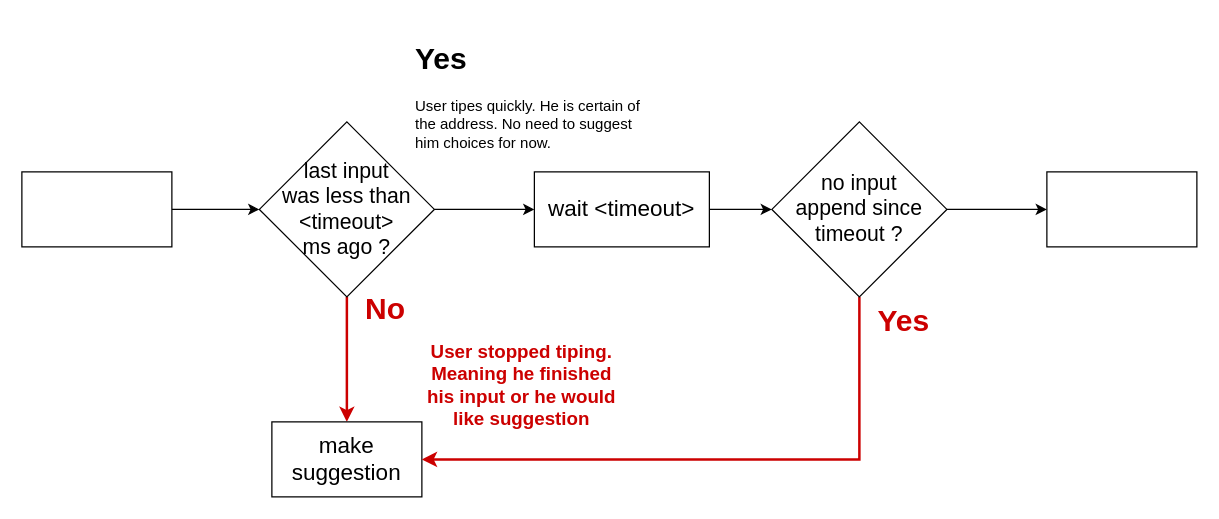
The diagram is 1219 pixels wide and 519 high, and some of its shapes have lost their labels. The shapes that lost their labels are listed below. From the top down, each one's centre as x and y in pixels, then its label:
At [96,209]: "user input localLast=now".
At [1121,209]: "abort".
